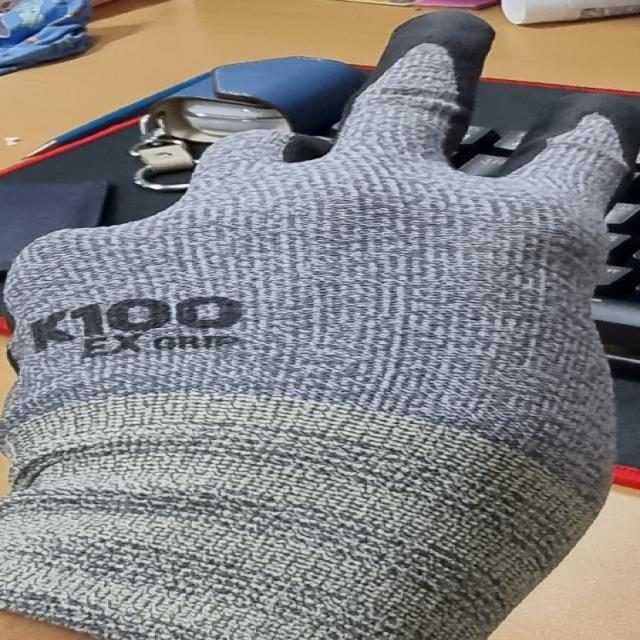Gloves: (4, 27, 640, 640)
